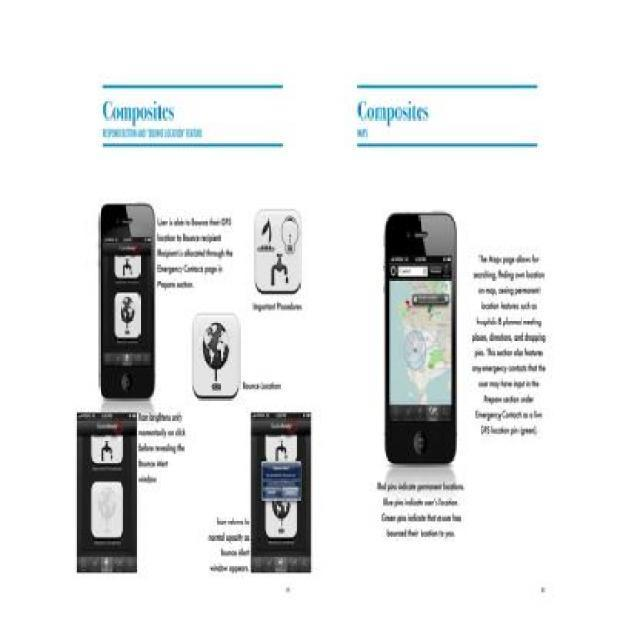phone: (385, 212, 462, 460), (98, 203, 155, 400)
